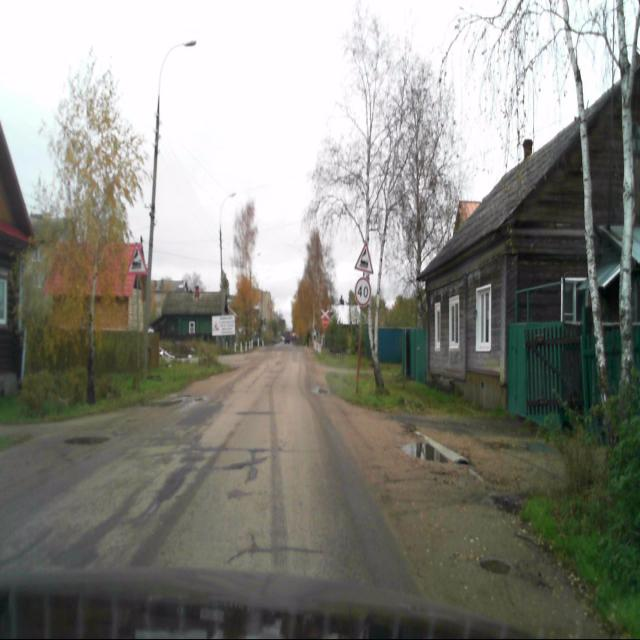road sign: (128, 243, 148, 274), (354, 242, 373, 274)
